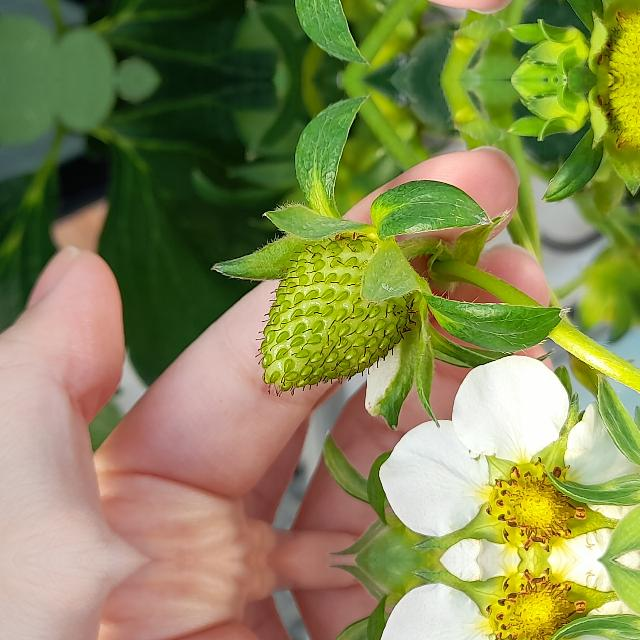Health_25: (255, 240, 417, 396)
